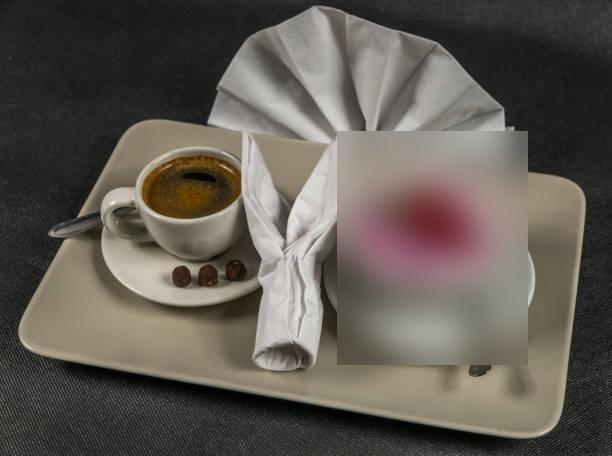cup-handle: (101, 144, 246, 261)
